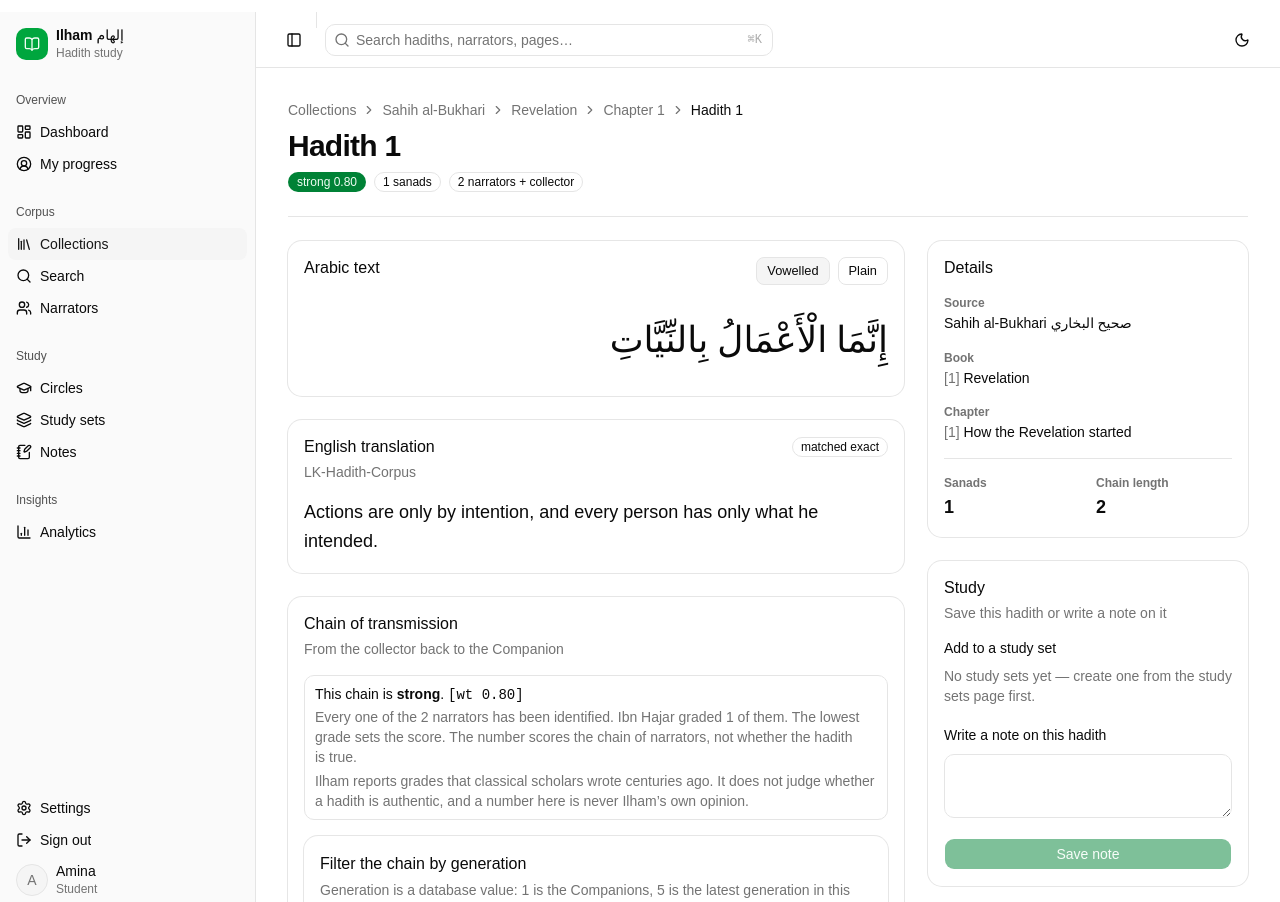
Test: Hadith detail page › toggles between the vowelled and plain Arabic renderings
The width and height of the screenshot is (1280, 902).
expect the text "إِنَّمَا الْأَعْمَالُ بِالنِّيَّاتِ" is shown: met, box top-left (610, 320), bottom-right (888, 360)
Click the radio button labelled "Plain". click: (863, 271)
box: top-left (838, 257), bottom-right (888, 285)
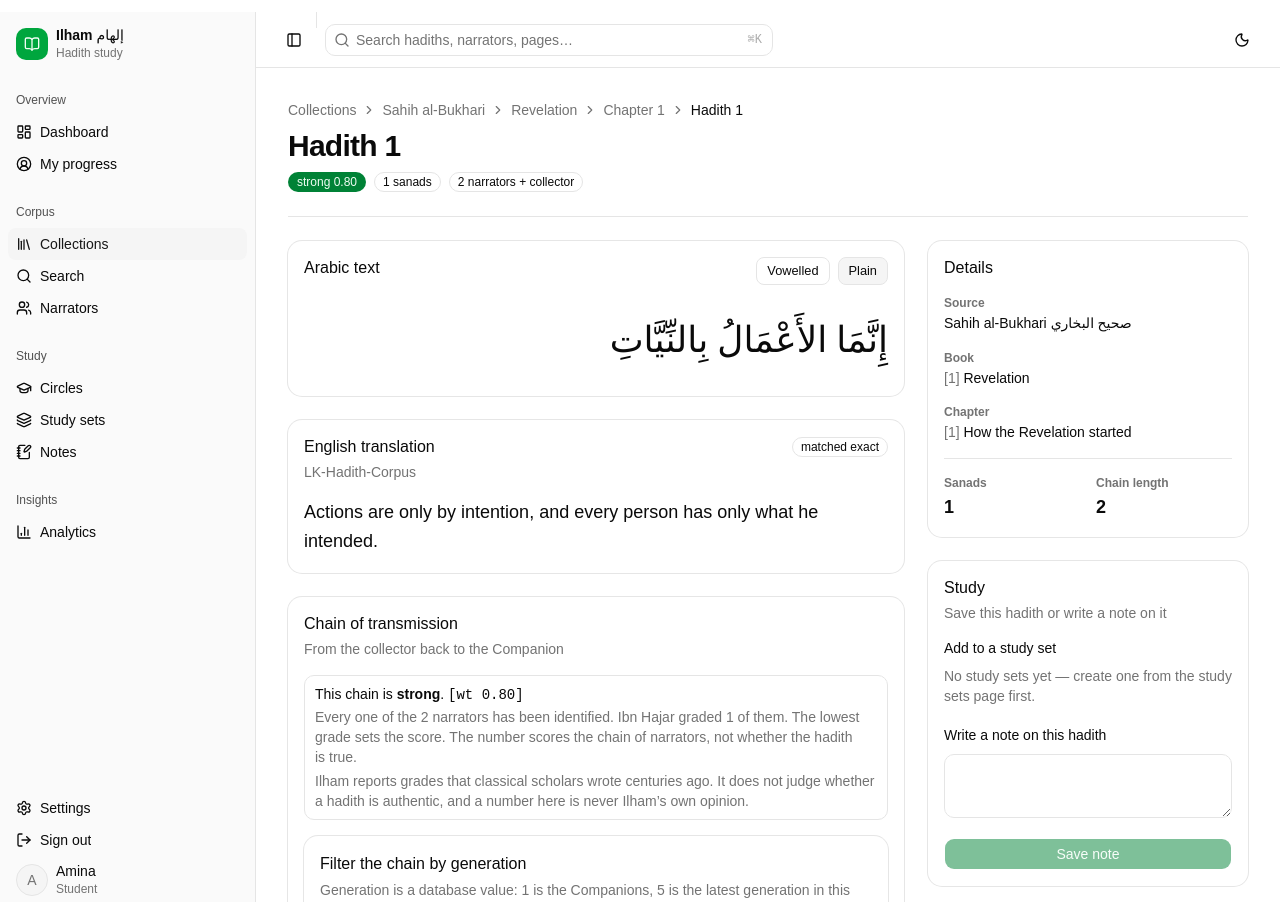
expect the text "إِنَّمَا الأَعْمَالُ بِالنِّيَّاتِ" is shown: met, box top-left (610, 320), bottom-right (888, 360)
expect the text "إِنَّمَا الْأَعْمَالُ بِالنِّيَّاتِ" is gone: met
Click the radio button labelled "Vowelled". click: (793, 271)
box: top-left (756, 257), bottom-right (830, 285)
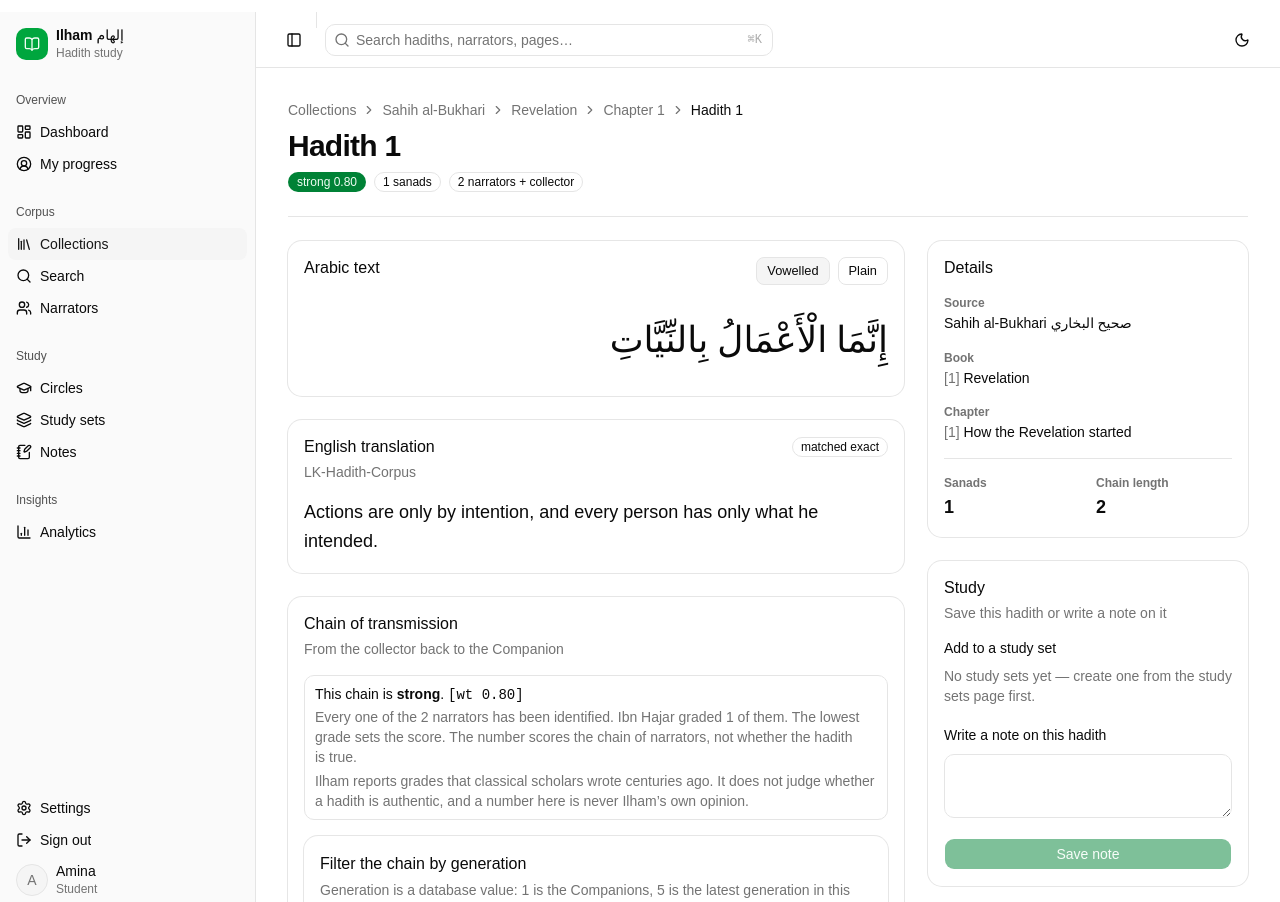
expect the text "إِنَّمَا الْأَعْمَالُ بِالنِّيَّاتِ" is shown: met, box top-left (610, 320), bottom-right (888, 360)
expect the text "إِنَّمَا الأَعْمَالُ بِالنِّيَّاتِ" is gone: met
